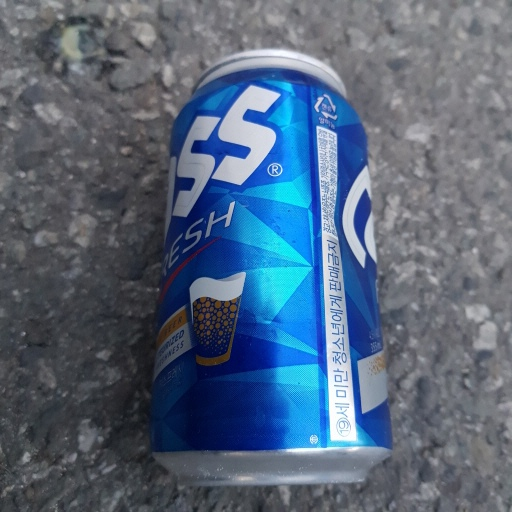Metal_0: (147, 48, 395, 490)
